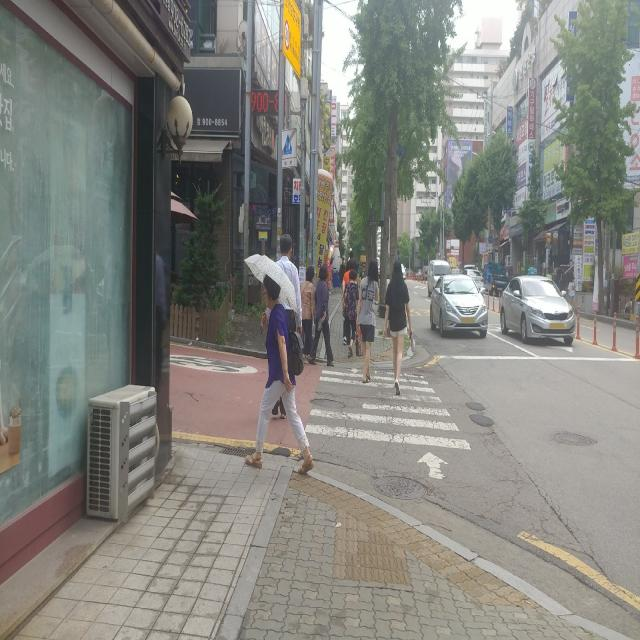횡단보도: (304, 367, 472, 482)
